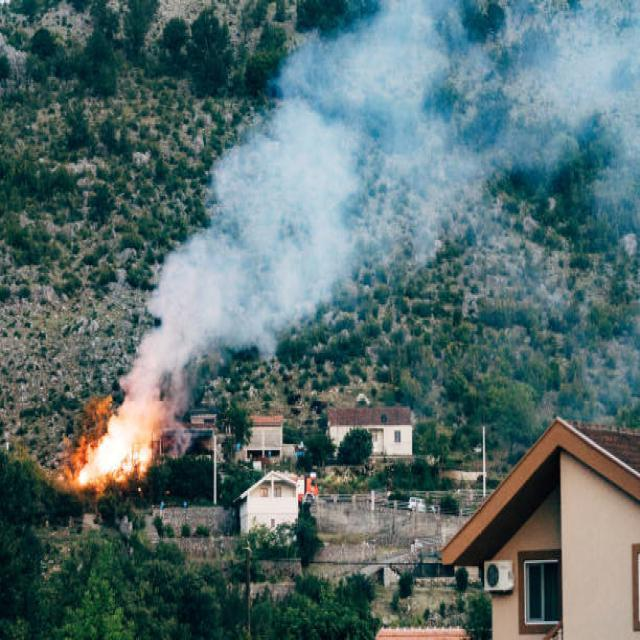Fire: (67, 410, 162, 490)
Smoke: (116, 0, 471, 420)
